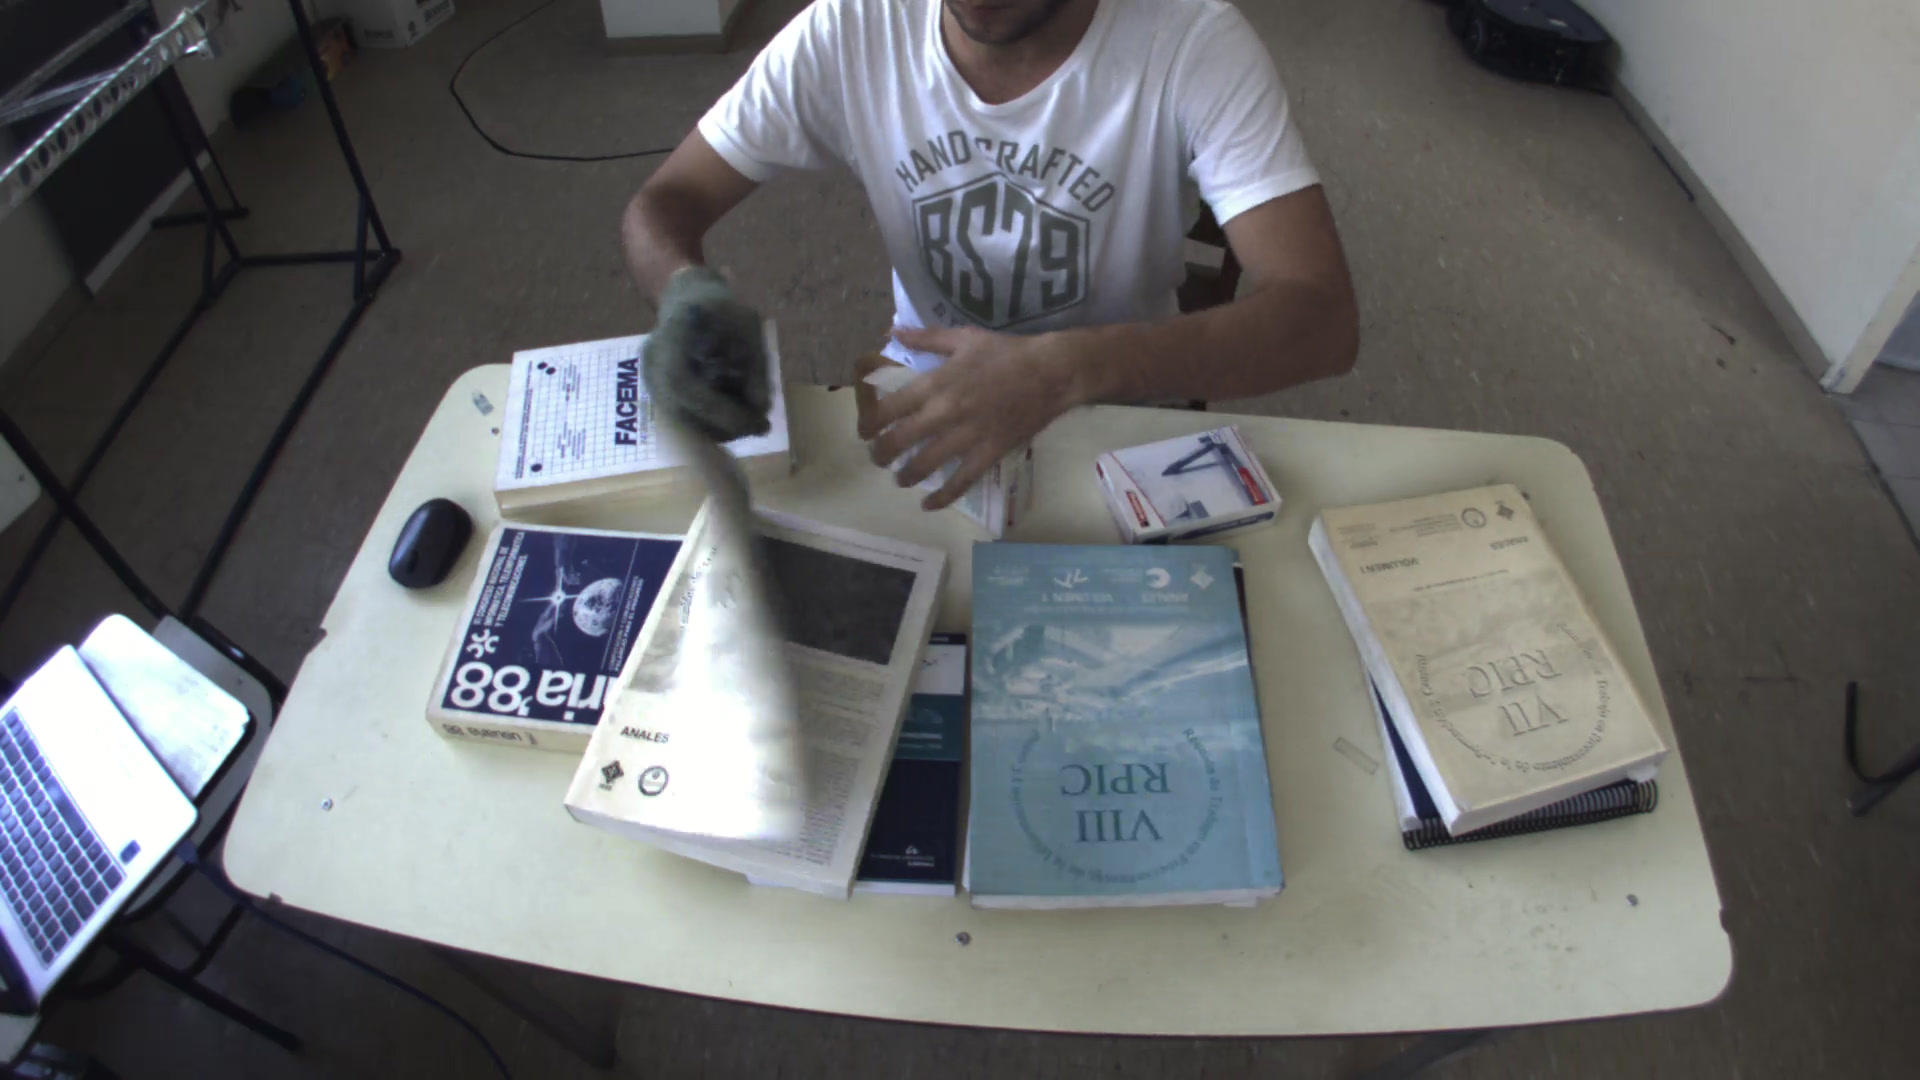hand: (858, 302, 1050, 518), (634, 262, 781, 433)
